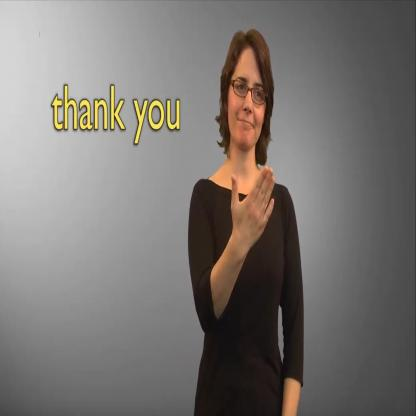ThankYou: (188, 41, 282, 321)
